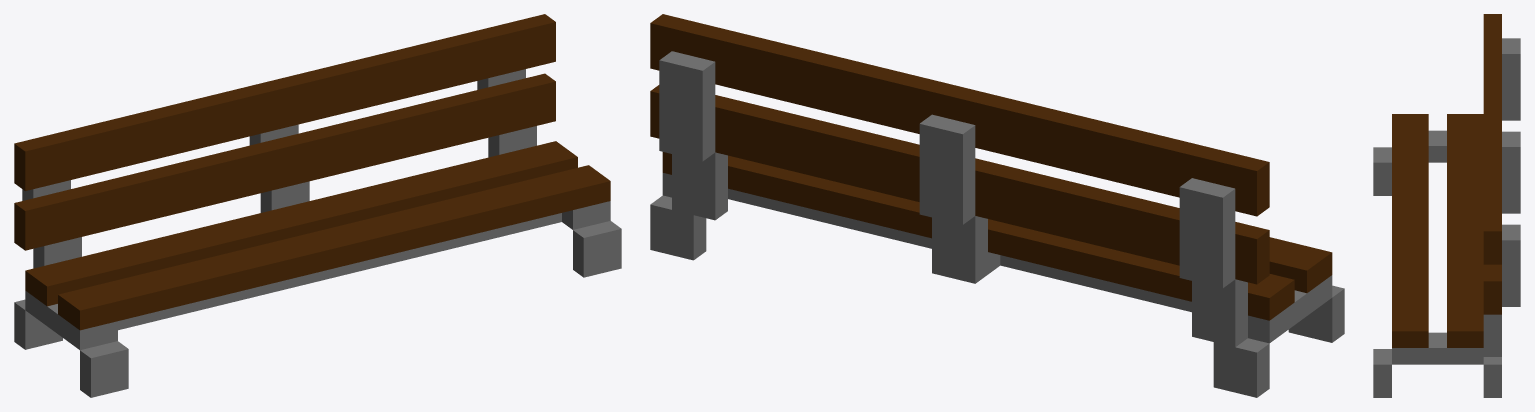
Rendered from prop_bench_t1.obj.
The picture shows the model from 3 angles, left to right: view 1: azimuth 30°, elevation 25°; view 2: azimuth 150°, elevation 25°; view 3: azimuth 270°, elevation 25°; orthographic projection. The views are drawn at different scales.
Bounding box in the file's own units: 2.8 × 1 × 0.8.
1 material, 1 textured.
